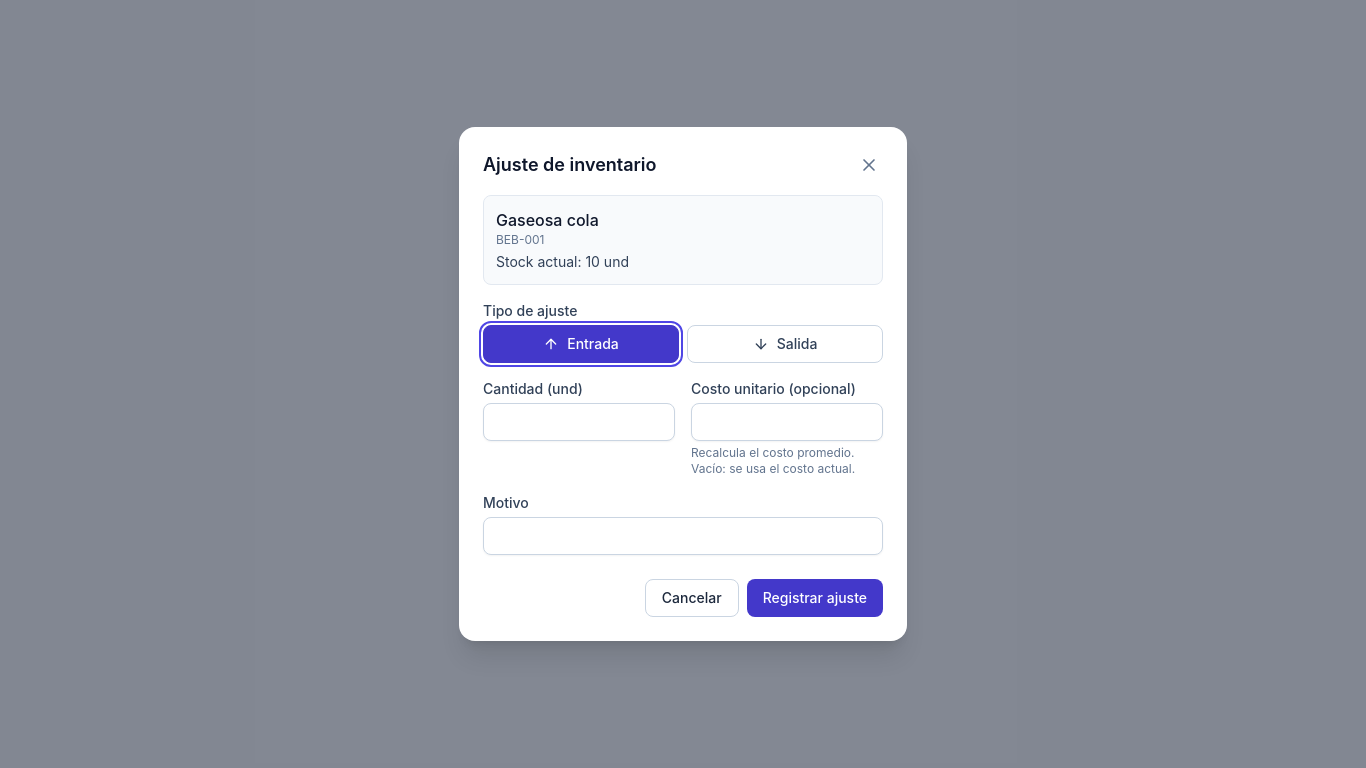
Scenario: AdjustmentFormModal › requires a reason and whole quantities for units
Type "1,5" into the field labelled "Cantidad (und)" at (579, 422), box [483,403,675,441]
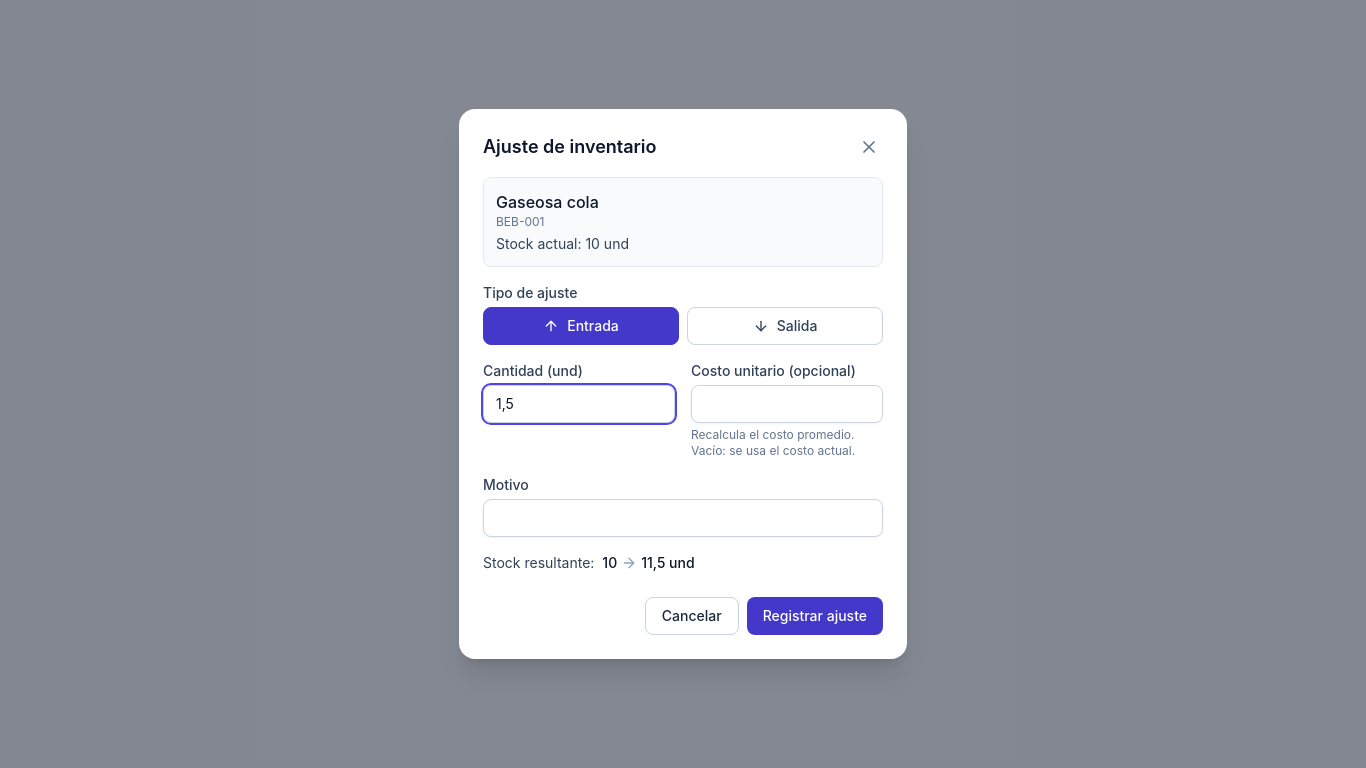
Click the button "Registrar ajuste" at (815, 616), box [747,597,883,635]
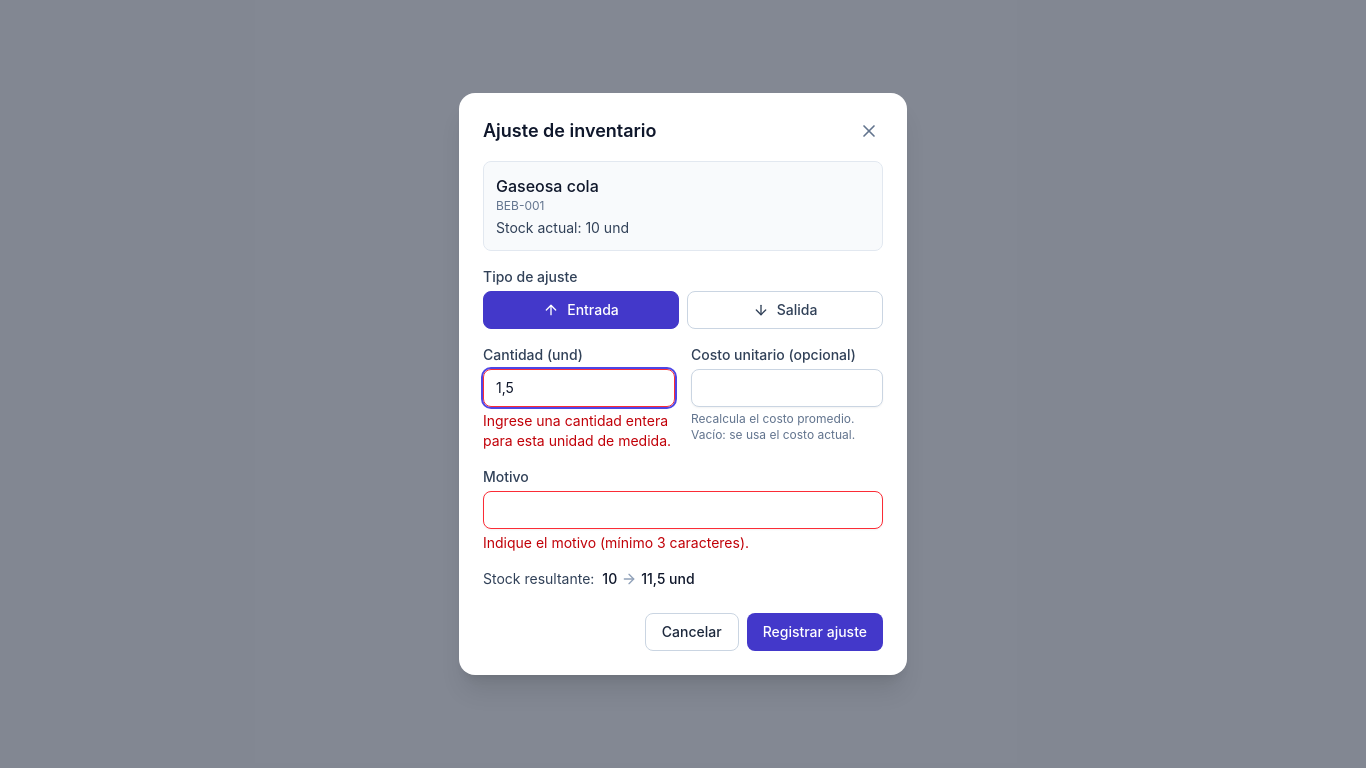
Result: the text "Ingrese una cantidad entera para esta unidad de medida." is shown at [483,411,675,451]
Result: the text "Indique el motivo (mínimo 3 caracteres)." is shown at [483,534,749,551]
